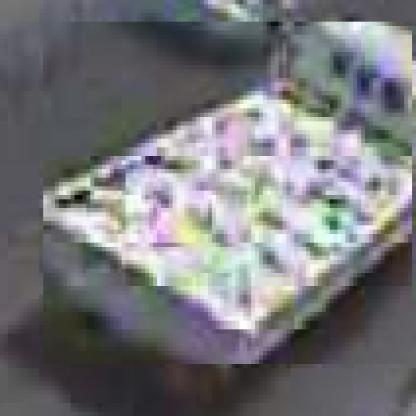truck: (40, 23, 413, 369)
